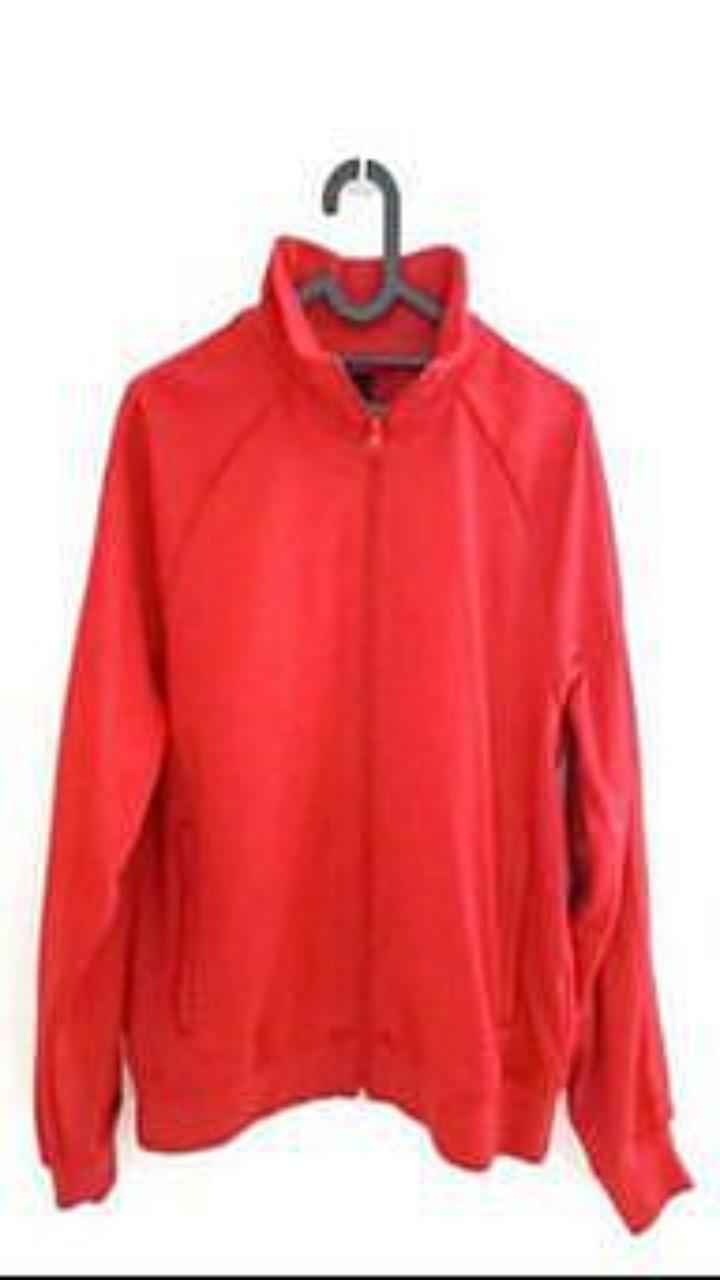Sports_Jacket: (38, 237, 689, 1230)
